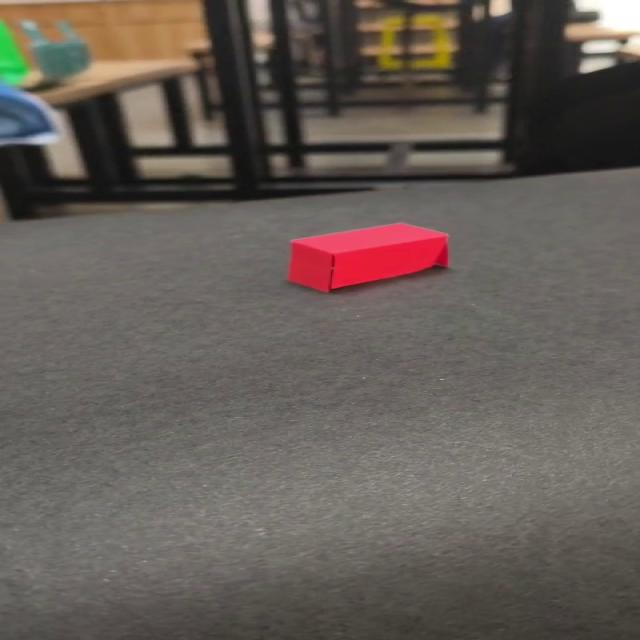red block: (286, 220, 450, 292)
